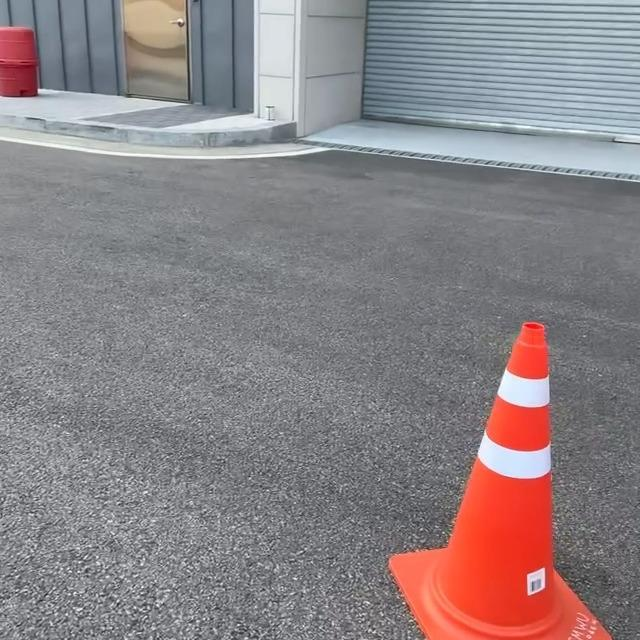fallen_object: (397, 300, 640, 640)
